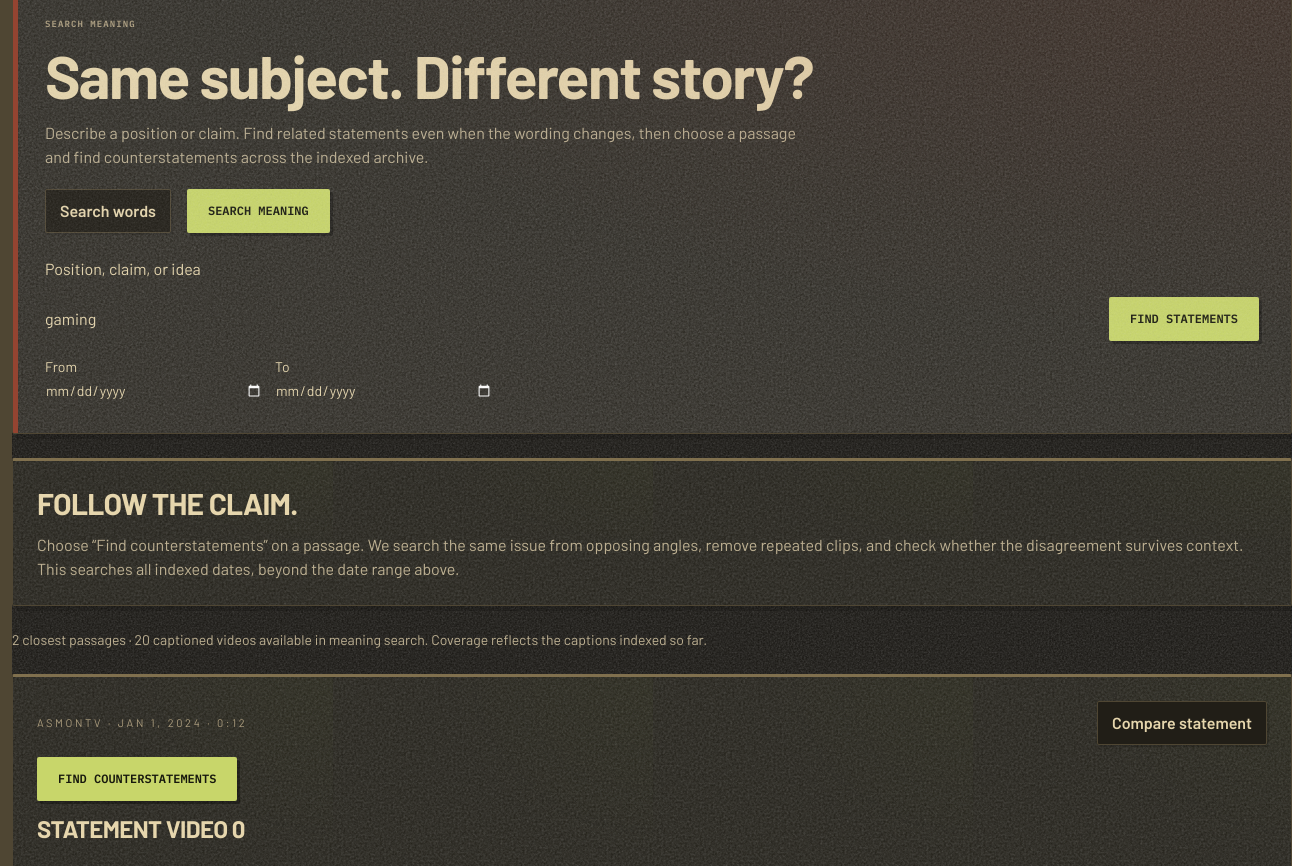
Test: meaning search › investigates an indexed ID and preserves disconfirming findings and source quotes
This screenshot has width=1292, height=866.
Step 1. Click the button "Find counterstatements" → [137, 779], box [37,757,237,801]
(page scrolled)
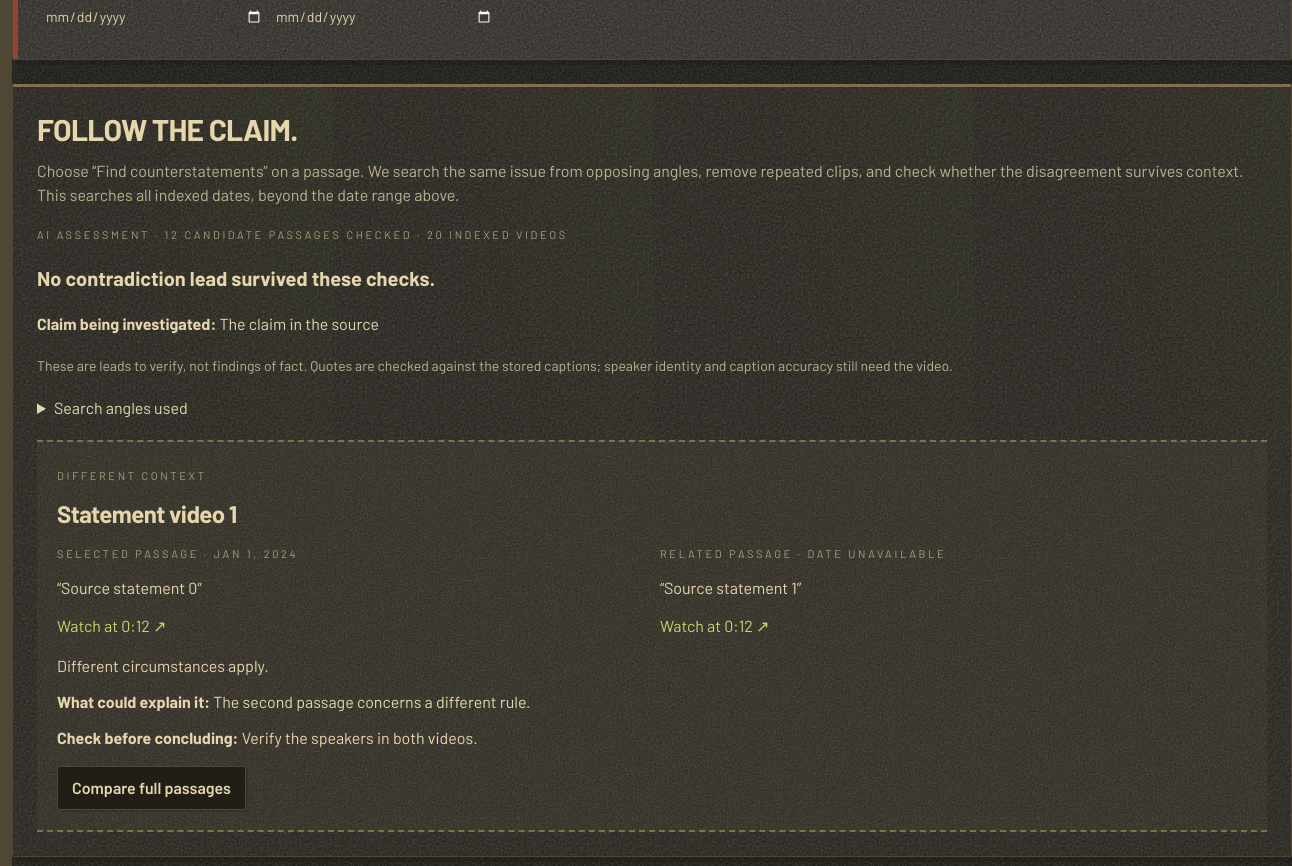
Expected: the text "Different context" is shown, [57,468,207,482]
Expected: the text "Verify the speakers in both videos." is shown, [242,728,478,747]
Step 2. Click the button "Compare full passages" → [152, 788], box [57,766,246,810]
(page scrolled)
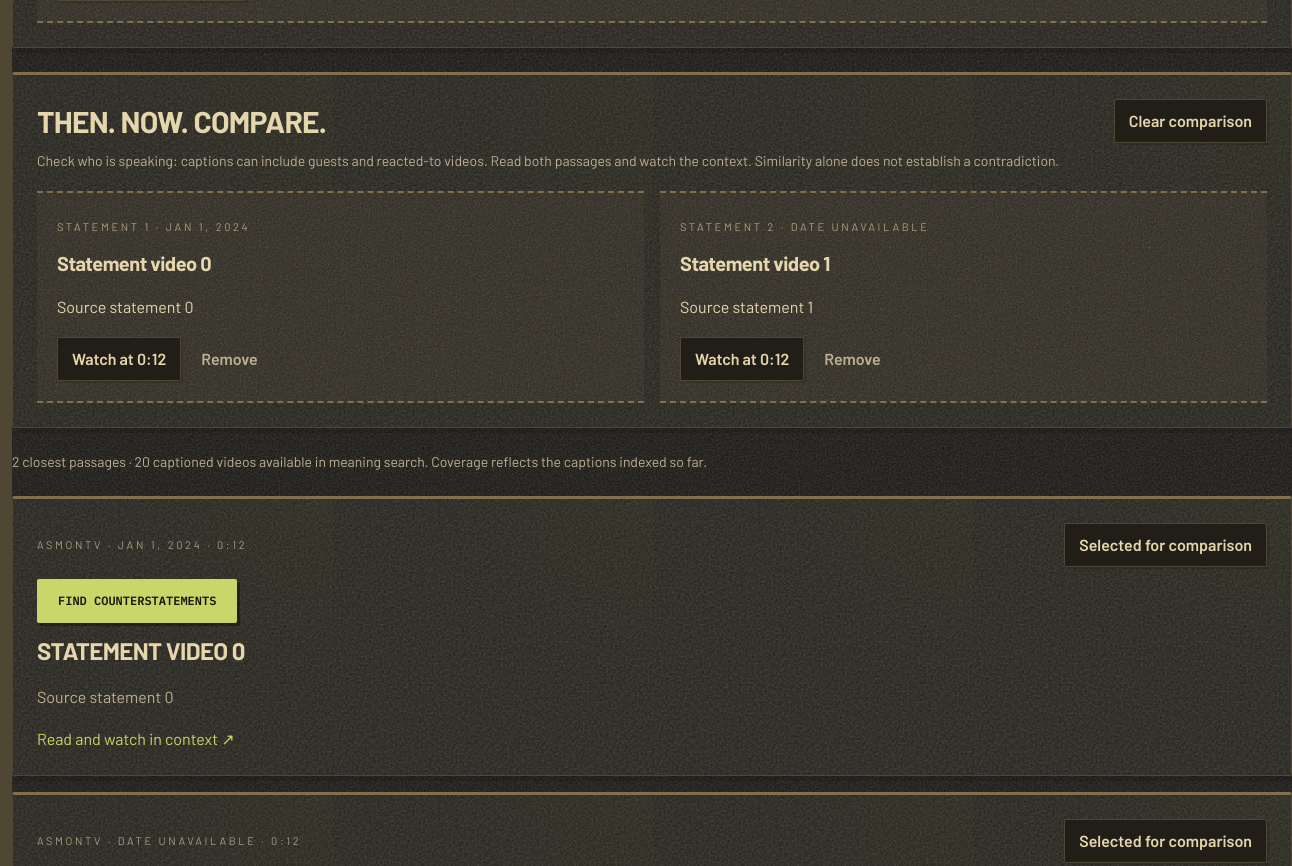
Expected: the element named "Compare statements" shows "Source statement 1", [680,297,813,316]
